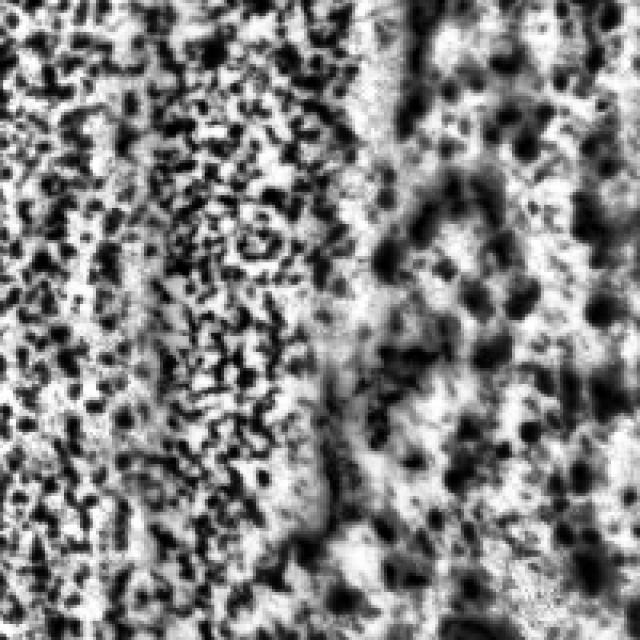Rolled_in_Scale: (7, 7, 356, 630), (320, 0, 633, 598)
Scratches: (291, 330, 448, 564)
